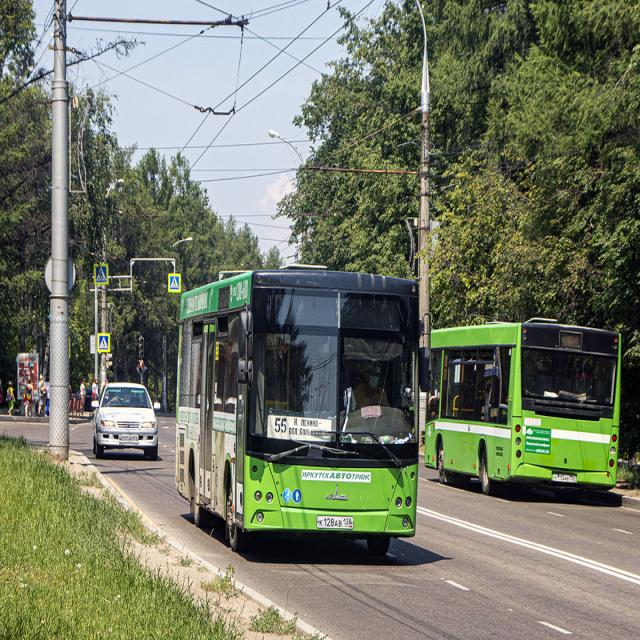number-of-bus: (275, 417, 289, 436)
